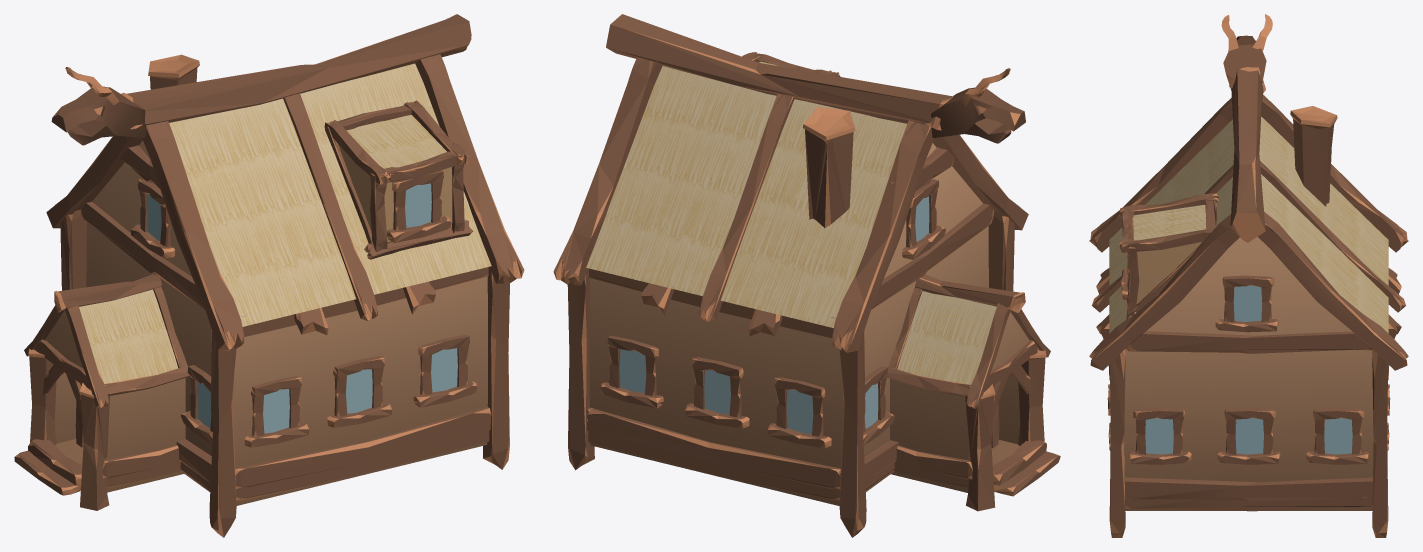
File: LuxHouse.fbx
3 renders of one model, left to right at view 1: azimuth 30°, elevation 25°; view 2: azimuth 150°, elevation 25°; view 3: azimuth 270°, elevation 25°, orthographic. The views are drawn at different scales.
Parts seen in each view (by area): view 1: LuxHouse; view 2: LuxHouse; view 3: LuxHouse.
Part boxes in pixels (x1,y1,x2,y2): LuxHouse: [14, 14, 524, 537]; LuxHouse: [553, 14, 1060, 537]; LuxHouse: [1089, 14, 1408, 537].
Bounding box in the file's own units: 392 × 373 × 289.
